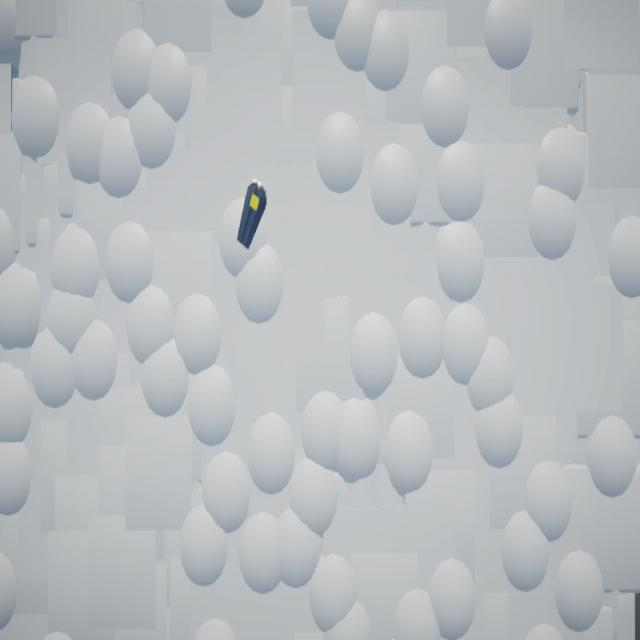handle_folk: (237, 181, 268, 251)
